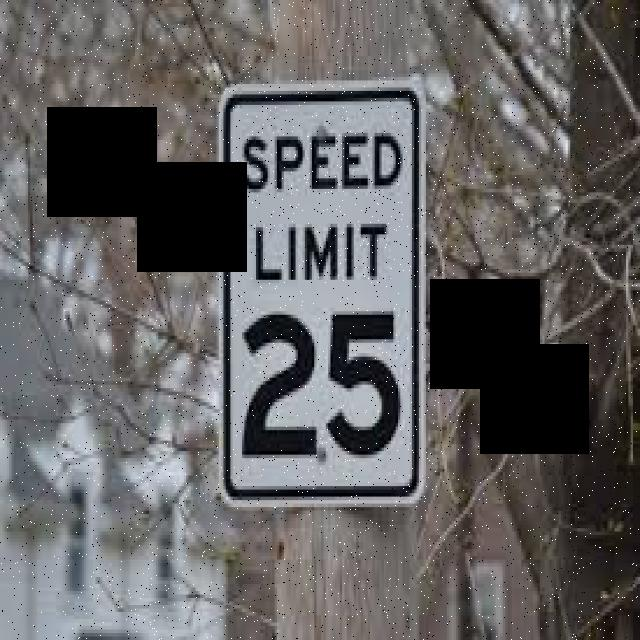regulatory: (219, 77, 428, 508)
